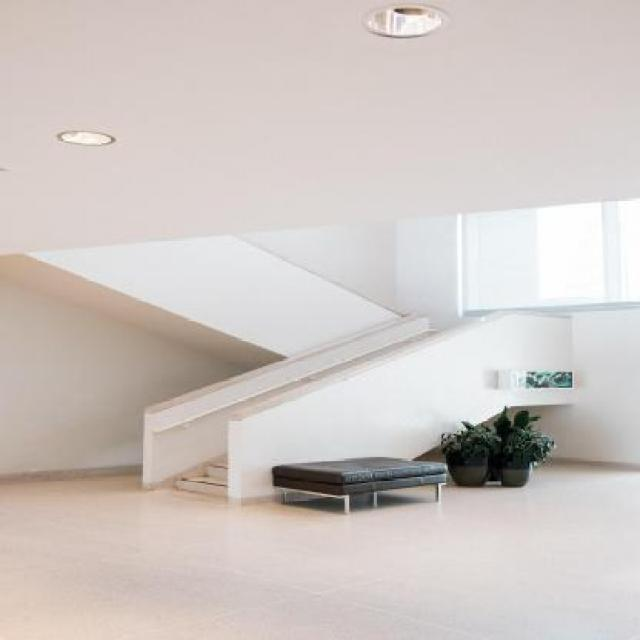Floor: (0, 464, 638, 640), (414, 453, 446, 463)
